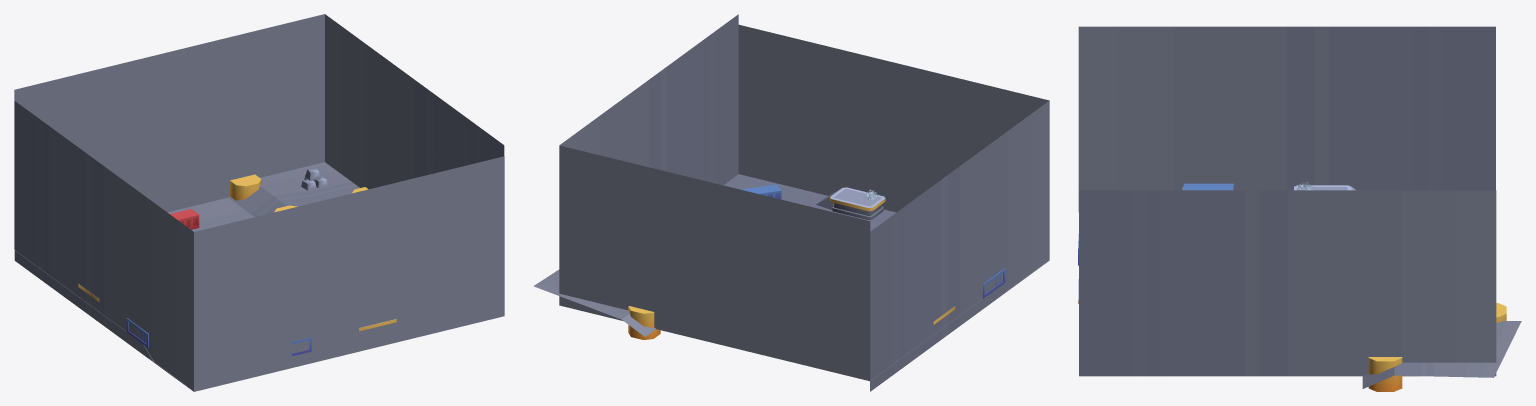
Rendered from spacestation.glb.
The picture shows the model from 3 angles, left to right: view 1: azimuth 30°, elevation 25°; view 2: azimuth 150°, elevation 25°; view 3: azimuth 270°, elevation 25°; orthographic projection. The views are drawn at different scales.
Parts seen in each view (by area): view 1: BARRIER, Plane, Group.020; view 2: BARRIER, Plane, table-large.001, Group.020; view 3: BARRIER, Plane, Group.021, cargo.008.
Boxes of the visible parts, left/top/right/bottom form: BARRIER: left=14, top=14, right=504, bottom=391; Plane: left=15, top=162, right=359, bottom=390; Group.020: left=230, top=174, right=261, bottom=200; BARRIER: left=559, top=14, right=1049, bottom=391; Plane: left=533, top=174, right=1048, bottom=380; table-large.001: left=816, top=187, right=885, bottom=219; Group.020: left=628, top=306, right=660, bottom=339; BARRIER: left=1078, top=26, right=1496, bottom=376; Plane: left=1362, top=321, right=1521, bottom=388; Group.021: left=1368, top=357, right=1402, bottom=391; cargo.008: left=1182, top=183, right=1233, bottom=190.
Bounding box in the file's own units: 2.18 × 1.06 × 2.13.
Materials: 10 (10 with a texture image).
